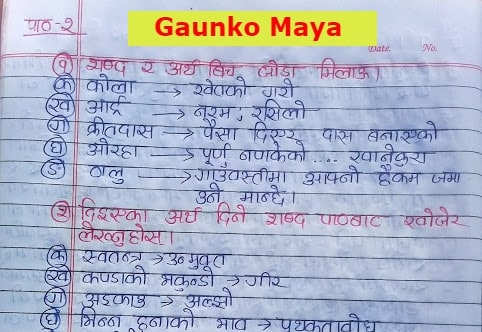text: (77, 219, 168, 246), (75, 195, 154, 225), (347, 143, 436, 168), (275, 312, 384, 332), (192, 164, 291, 186), (401, 204, 470, 232), (82, 116, 157, 141), (249, 98, 321, 123), (365, 121, 442, 144), (238, 139, 307, 164), (132, 307, 198, 332), (315, 56, 375, 83), (79, 264, 150, 286), (313, 209, 391, 229), (244, 120, 306, 145), (159, 266, 218, 292), (190, 76, 252, 100), (86, 137, 148, 161), (300, 164, 364, 187), (80, 291, 158, 309), (163, 251, 234, 270), (81, 247, 144, 267), (373, 163, 423, 188), (74, 306, 126, 330), (183, 286, 234, 310), (85, 72, 138, 95), (82, 93, 132, 117), (237, 184, 289, 207), (83, 162, 129, 187), (81, 54, 132, 76), (255, 58, 305, 79), (197, 118, 239, 141), (262, 209, 309, 228), (163, 54, 203, 76), (260, 77, 300, 99), (243, 271, 289, 290), (203, 57, 244, 78), (190, 103, 237, 121), (215, 202, 249, 226), (163, 205, 203, 225), (198, 142, 231, 166), (212, 315, 256, 332), (193, 183, 225, 205), (321, 126, 356, 145), (428, 169, 464, 186), (21, 15, 55, 32), (46, 96, 74, 114), (138, 57, 161, 77), (45, 268, 70, 284), (58, 14, 78, 33), (48, 118, 68, 134), (56, 77, 73, 94), (48, 139, 65, 156), (46, 289, 64, 305), (54, 202, 69, 221), (46, 160, 62, 177), (49, 247, 65, 263), (43, 311, 60, 326), (56, 57, 68, 73)
